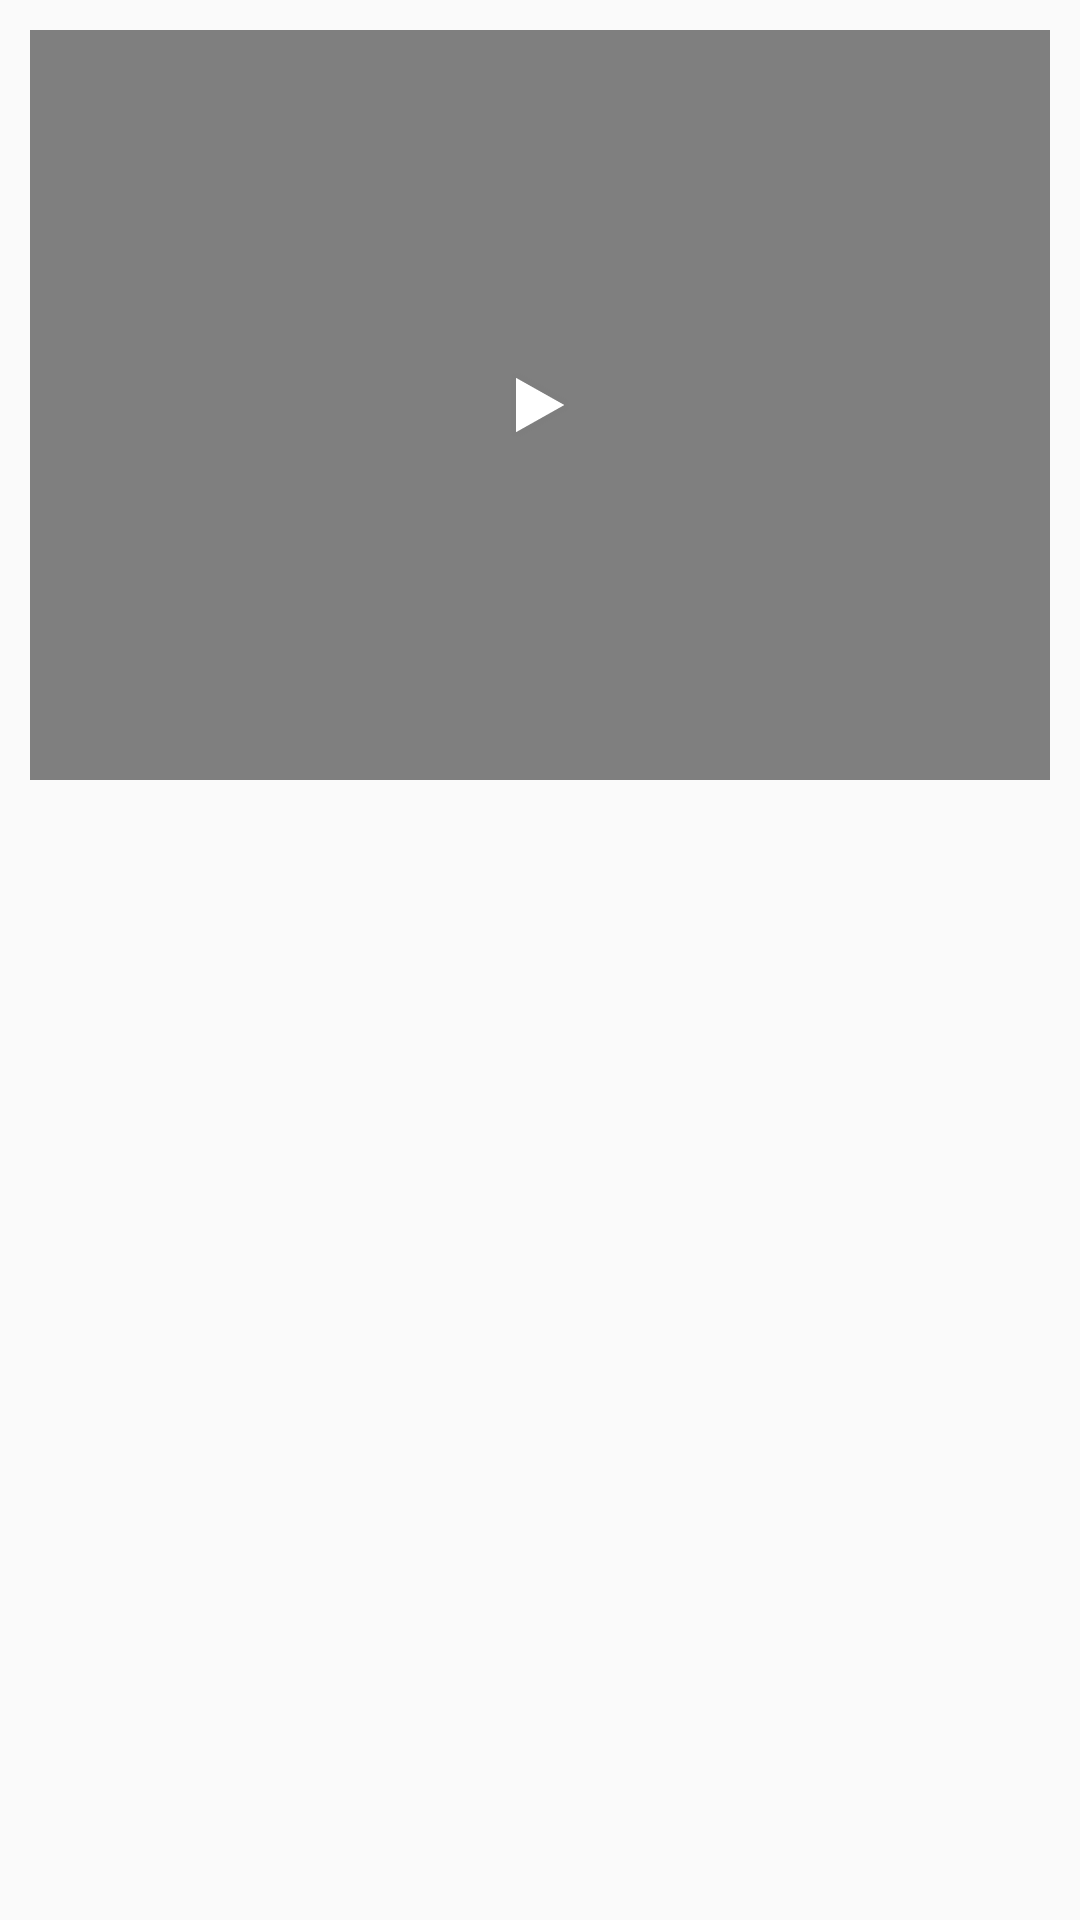

Icon bounding boxes for this 1080×1920 phone screenshot, format [left=x1, top=y1, right=x2, bottom=y2]:
play: [left=516, top=378, right=564, bottom=432]
